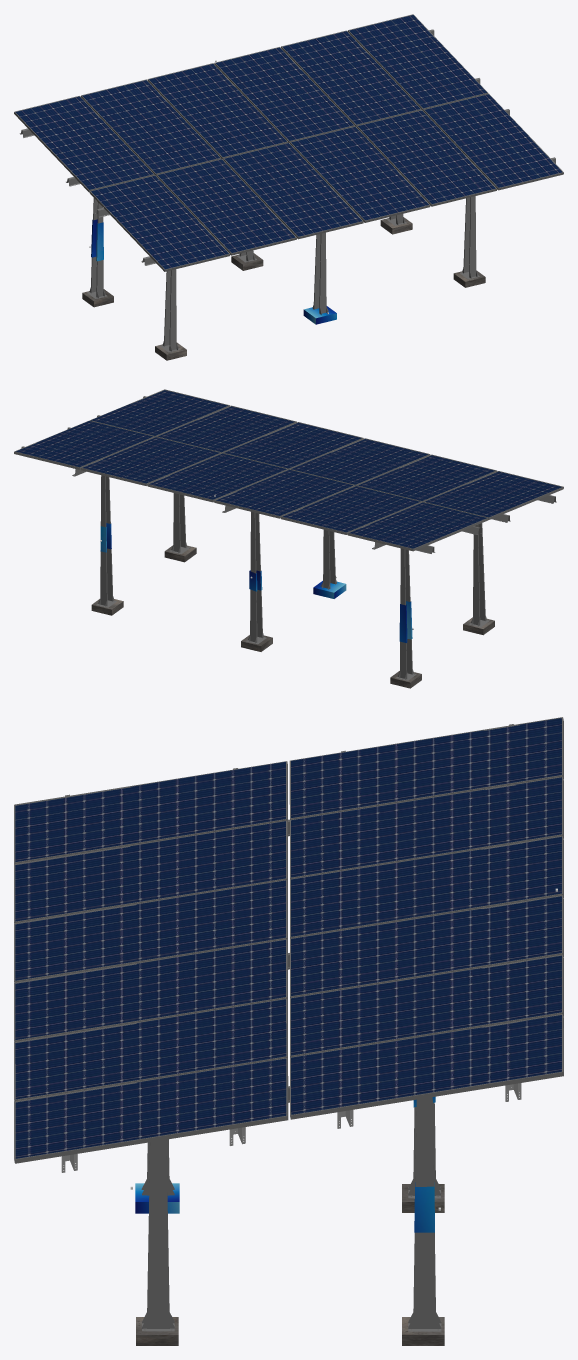
The picture shows the model from 3 angles, top to bottom: view 1: azimuth 30°, elevation 25°; view 2: azimuth 150°, elevation 25°; view 3: azimuth 270°, elevation 25°; orthographic projection. The views are drawn at different scales.
Parts seen in each view (by area): view 1: correct.002_Baked, correct_Baked, base_Baked, highlight_2; view 2: correct.002_Baked, correct_Baked, base_Baked, highlight_2, highlight_1; view 3: correct.002_Baked, correct_Baked, base_Baked, highlight_4.
Part boxes in pixels (x1=…): correct.002_Baked: x1=15, y1=15, x2=562, y2=269; correct_Baked: x1=14, y1=14, x2=563, y2=352; base_Baked: x1=82, y1=217, x2=485, y2=360; highlight_2: x1=91, y1=219, x2=103, y2=261; correct.002_Baked: x1=16, y1=390, x2=561, y2=548; correct_Baked: x1=14, y1=389, x2=563, y2=680; base_Baked: x1=91, y1=545, x2=494, y2=688; highlight_2: x1=399, y1=601, x2=412, y2=642; highlight_1: x1=313, y1=581, x2=346, y2=598; correct.002_Baked: x1=15, y1=718, x2=561, y2=1158; correct_Baked: x1=14, y1=717, x2=563, y2=1331; base_Baked: x1=136, y1=1184, x2=444, y2=1345; highlight_4: x1=414, y1=1182, x2=434, y2=1232.
Bounding box in the file's own units: 7.11 × 2.9 × 4.51.
9 materials, 8 textured.
